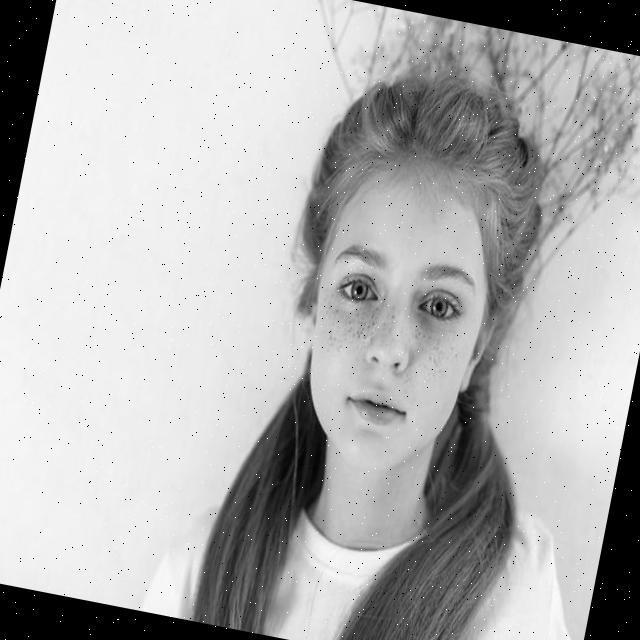Neutral: (286, 174, 505, 488)
